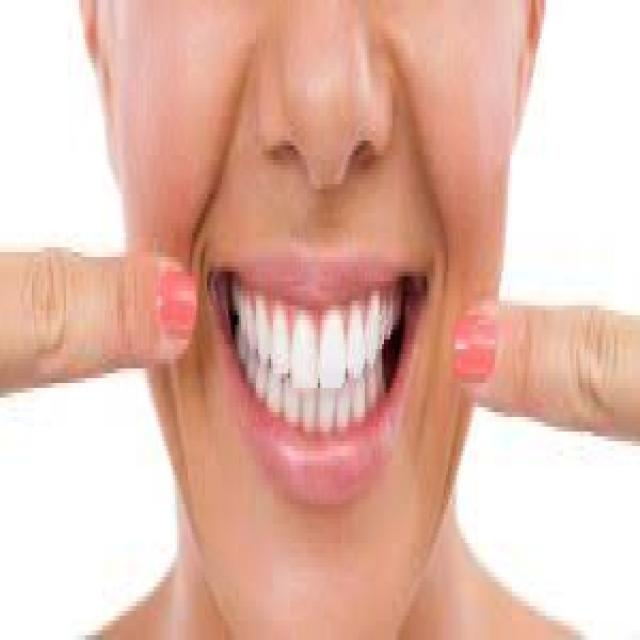tooth: (314, 305, 348, 388), (290, 300, 318, 392), (237, 291, 254, 368), (346, 301, 362, 378), (318, 388, 339, 436), (271, 311, 288, 368), (352, 383, 369, 436), (363, 368, 386, 402), (378, 300, 397, 340), (256, 306, 269, 364), (298, 388, 316, 427), (282, 378, 296, 427), (266, 383, 282, 417), (337, 398, 350, 437), (369, 296, 376, 364), (256, 368, 265, 408)
